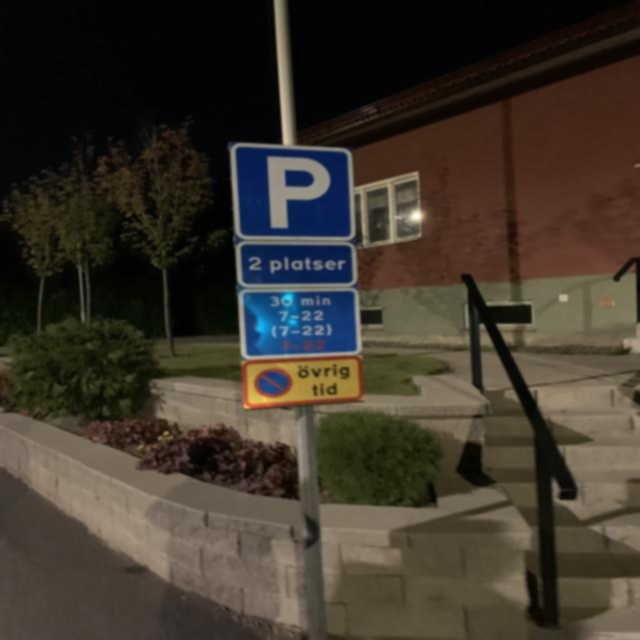P-skylt: (226, 143, 358, 244)
